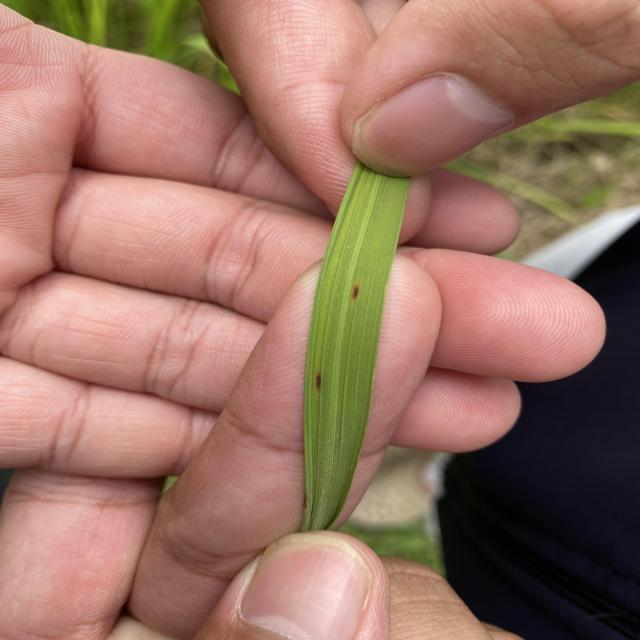Dom nau: (314, 372, 323, 391), (350, 285, 360, 300)
